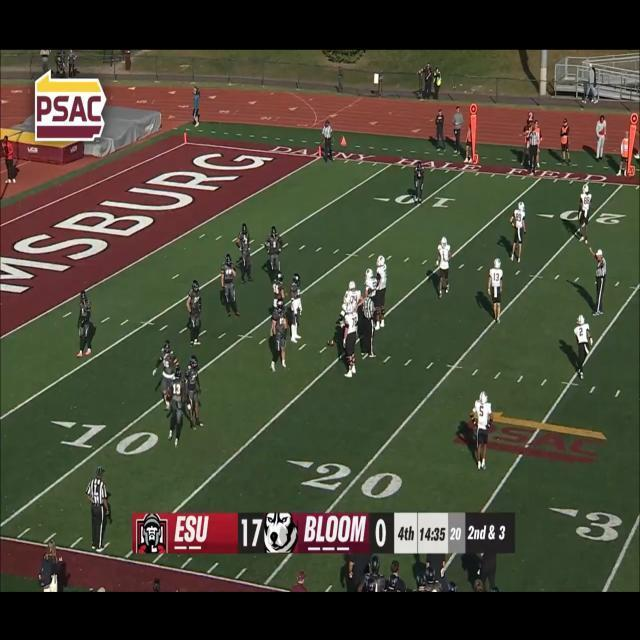football: (326, 340, 336, 348)
